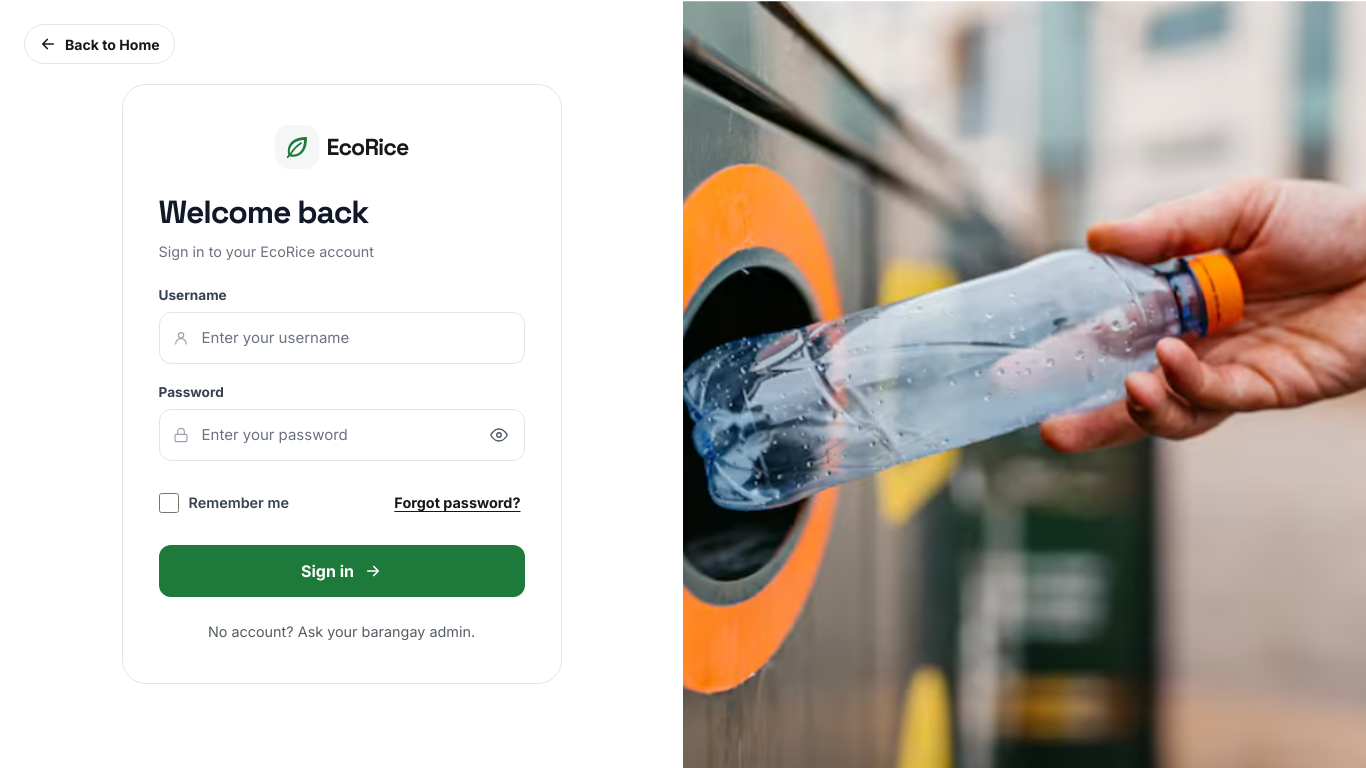
it: on a failed sign-in, shows the error, keeps the username and clears the password
In the field labelled "Username": (342, 338) [158, 312, 524, 364], type "juan"
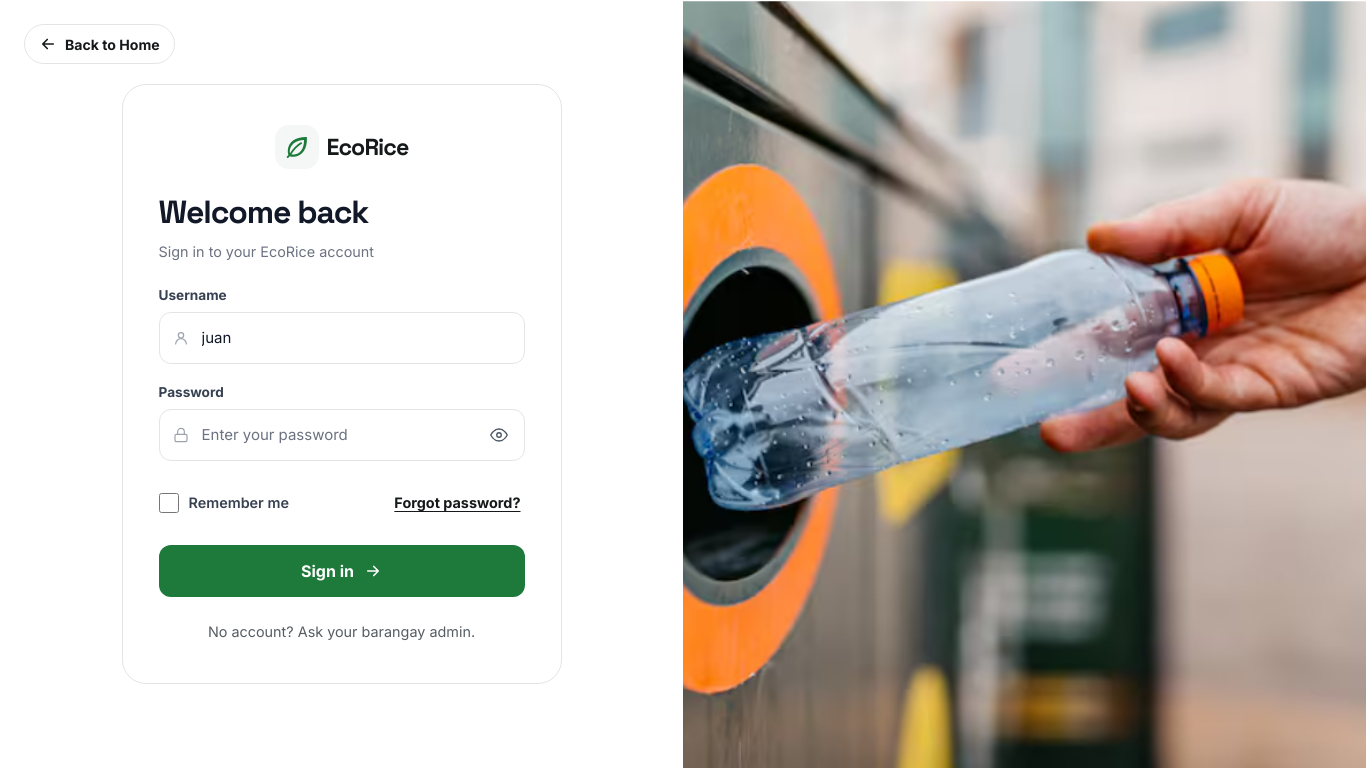
In the password field labelled "Password": (342, 435) [158, 409, 524, 461], type "test-only-pass"
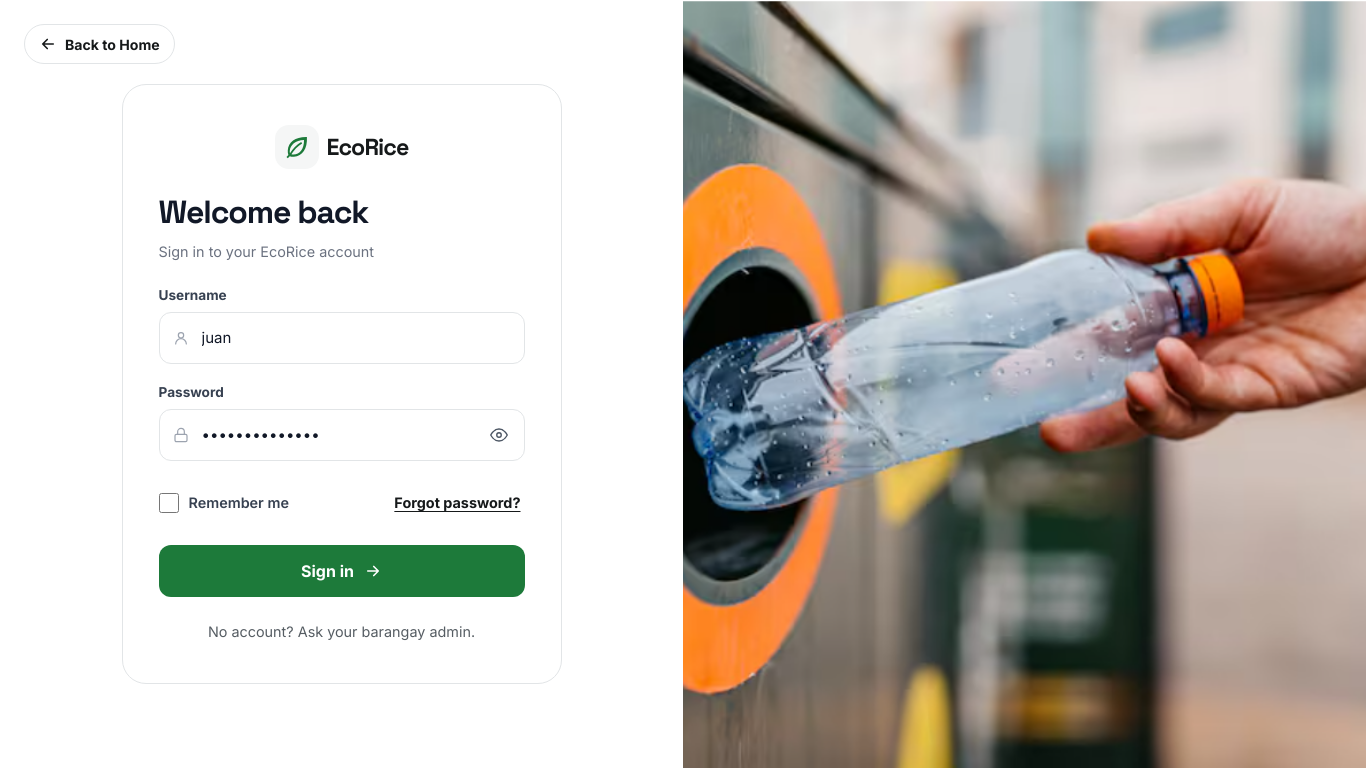
Click the button "Sign in": (342, 571) [158, 545, 524, 597]
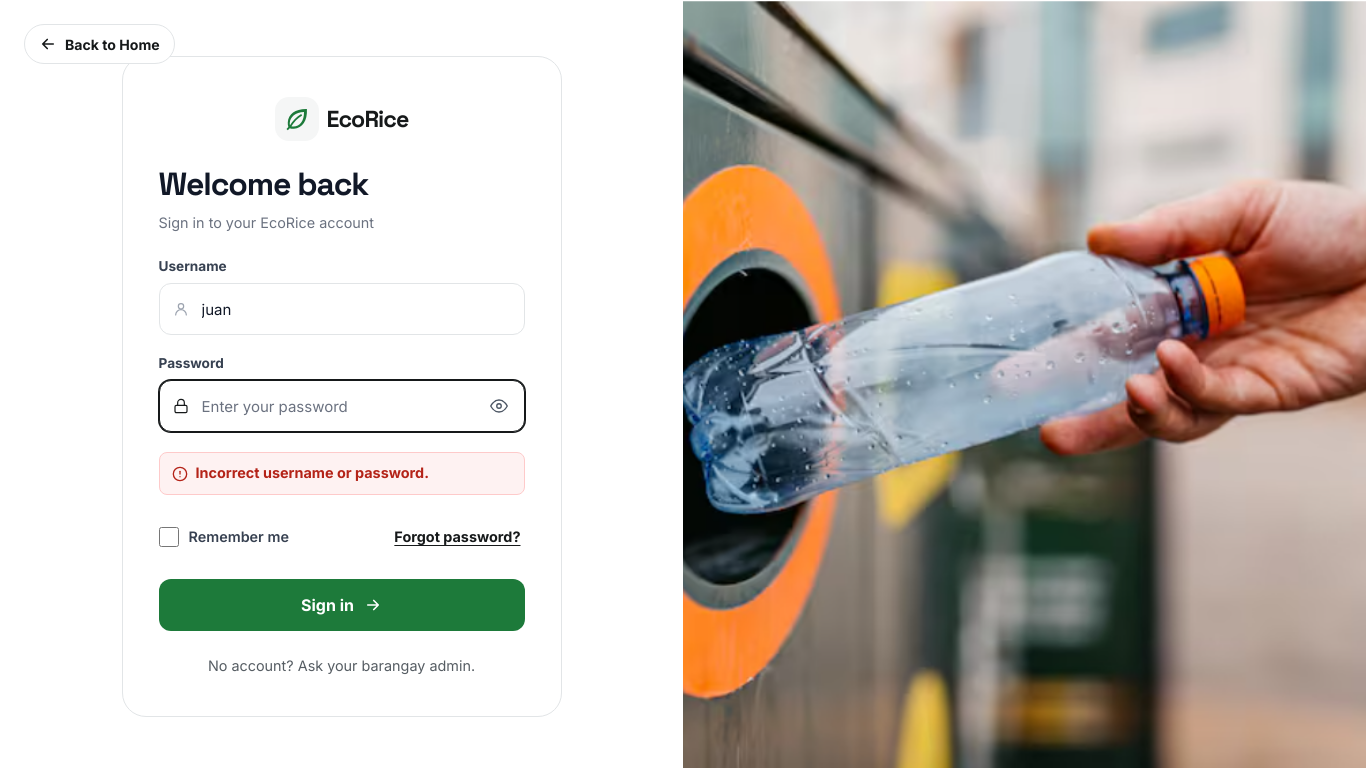
Expected: the button "Sign in" is enabled, [158, 579, 524, 631]
Expected: the message reads "Incorrect username or password.", [196, 464, 429, 481]
Expected: the password field labelled "Password" is empty, [158, 380, 524, 432]
